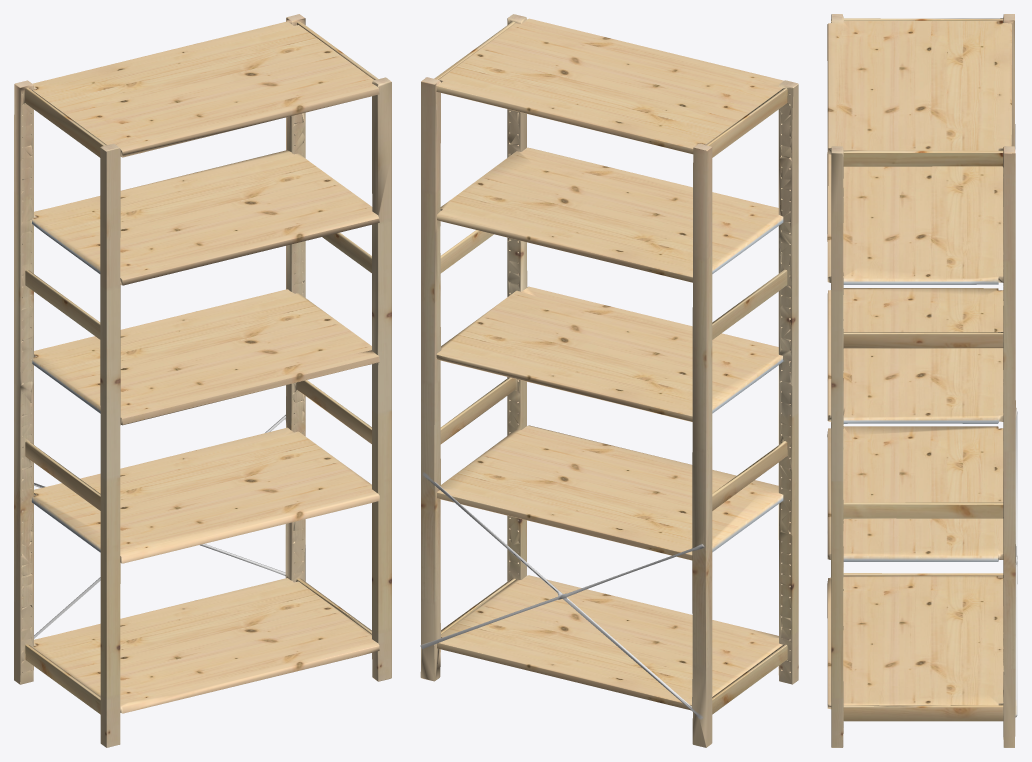
The model's file is IVAR.glb.
The picture shows the model from 3 angles, left to right: view 1: azimuth 30°, elevation 25°; view 2: azimuth 150°, elevation 25°; view 3: azimuth 270°, elevation 25°; orthographic projection.
Parts seen in each view (by area): view 1: ProcessedMeshNode; view 2: ProcessedMeshNode; view 3: ProcessedMeshNode.
Boxes of the visible parts, <box> form: ProcessedMeshNode: <box>14,14,391,747</box>; ProcessedMeshNode: <box>420,14,798,747</box>; ProcessedMeshNode: <box>827,14,1017,747</box>.
Bounding box in the file's own units: 0.896 × 1.79 × 0.517.
1 material, 1 textured.
